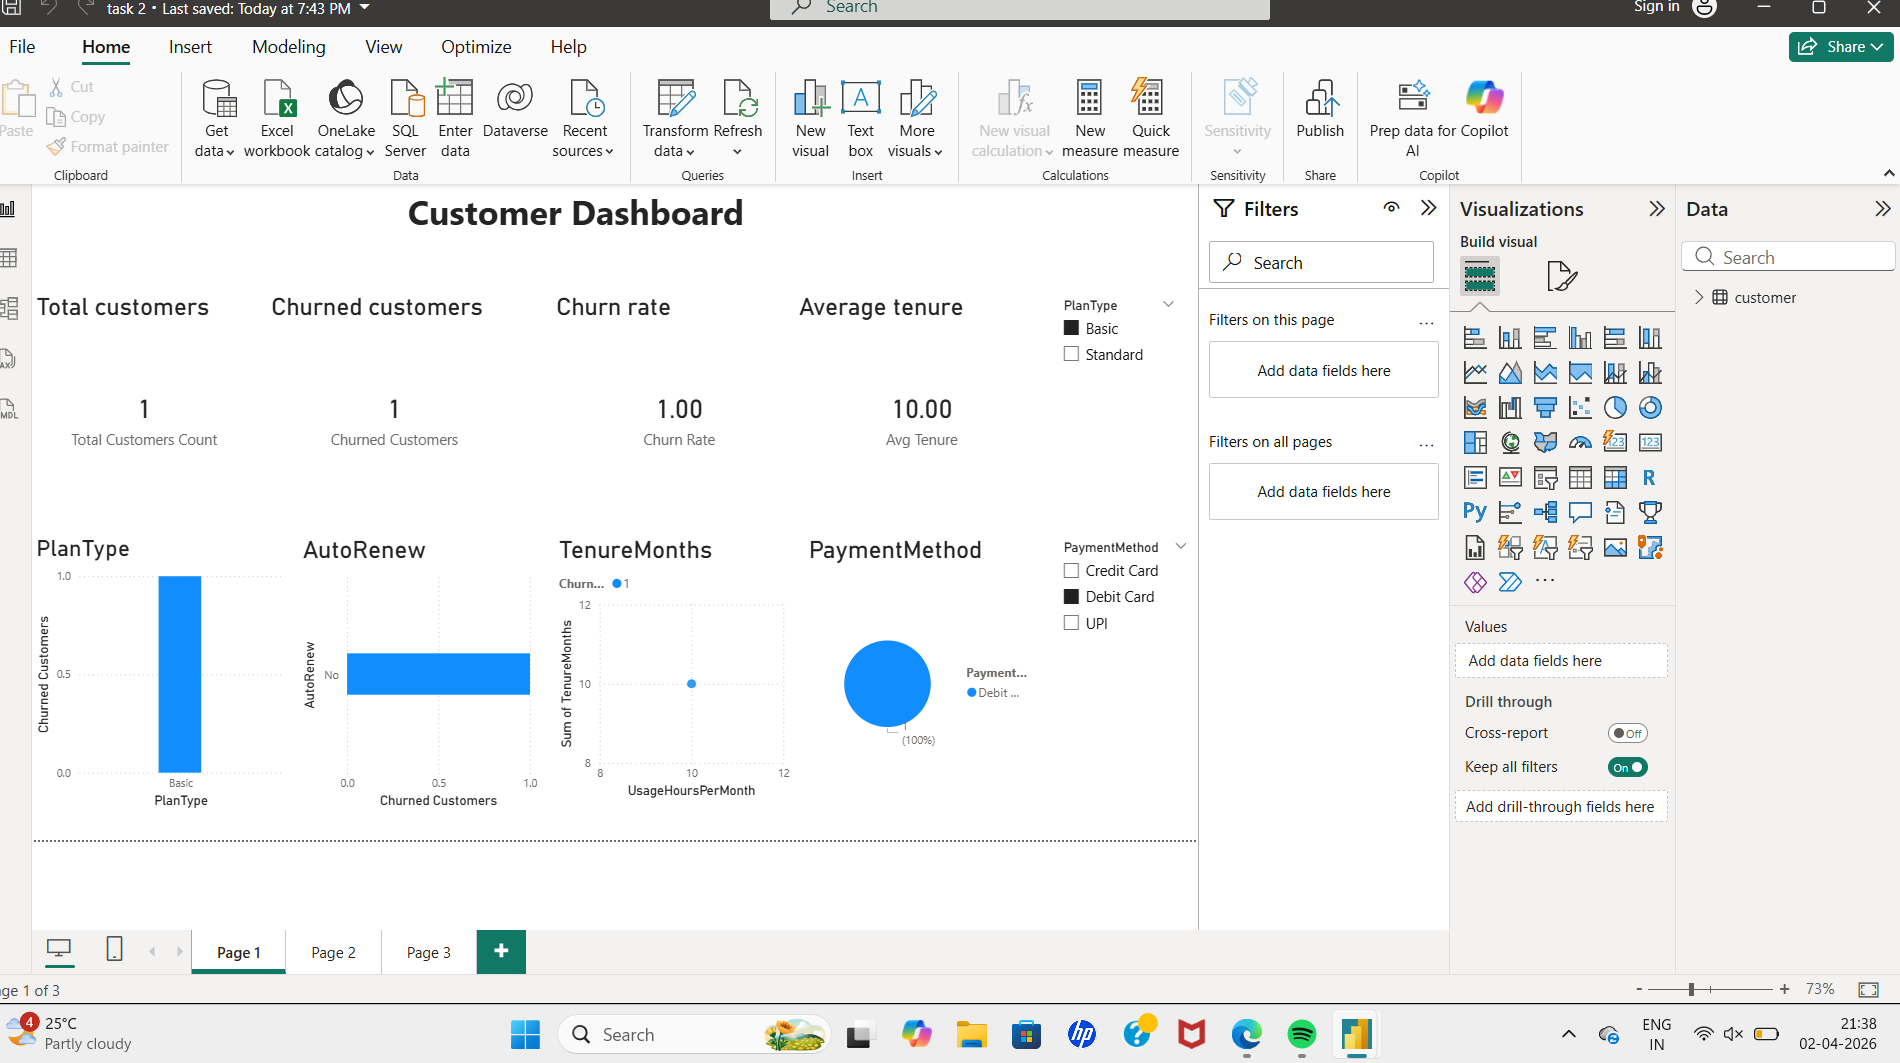

The dashboard page shown, as its layout file describes it:
{"tool":"powerbi","page":{"name":"Page 1","canvas":[1280,720],"ordinal":0},"visuals":[{"type":"card","title":"Total customers","fields":{"Values":["customer.Total Customers Count"]},"box":[0,119.4,247,240.1],"z":0},{"type":"card","title":"Churned customers","fields":{"Values":["customer.Churned Customers"]},"box":[258,119.4,279.9,240.1],"z":1000},{"type":"card","title":"Churn rate","fields":{"Values":["customer.Churn Rate"]},"box":[570.8,119.4,279.9,240.1],"z":2000},{"type":"card","title":"Average tenure","fields":{"Values":["customer.Avg Tenure"]},"box":[837.1,119.4,279.9,240.1],"z":3000},{"type":"barChart","title":"AutoRenew","fields":{"Category":["customer.AutoRenew"],"Y":["customer.Churned Customers"]},"box":[292.3,385.6,267.6,304.6],"z":4000},{"type":"scatterChart","title":"TenureMonths","fields":{"X":["customer.UsageHoursPerMonth"],"Y":["Sum(customer.TenureMonths)"],"Series":["customer.Churned"]},"box":[573.6,385.6,263.5,293.7],"z":5000},{"type":"pieChart","title":"PaymentMethod","fields":{"Category":["customer.PaymentMethod"],"Y":["customer.Churned Customers"]},"box":[848,385.6,256.6,293.7],"z":6000},{"type":"clusteredColumnChart","title":"PlanType","fields":{"Category":["customer.PlanType"],"Y":["customer.Churned Customers"]},"box":[0,385.6,279.9,304.6],"z":7000},{"type":"slicer","fields":{"Values":["customer.PlanType"]},"box":[1119.7,119.4,146.8,240.1],"z":8000},{"type":"slicer","fields":{"Values":["customer.PaymentMethod"]},"box":[1119.7,385.6,160.5,279.9],"z":9000},{"type":"textbox","box":[407.5,0,429.5,91.9],"z":10000}]}

Visuals, with their boxes on the page's 1280x720 design canvas (x1, y1, x2, y2). These are canvas units, not pixel positions in the 1900x1063 screenshot, which may show the page scaled, cropped or inside an application window:
"Total customers" card: [x1=0, y1=119, x2=247, y2=360]
"Churned customers" card: [x1=258, y1=119, x2=538, y2=360]
"Churn rate" card: [x1=571, y1=119, x2=851, y2=360]
"Average tenure" card: [x1=837, y1=119, x2=1117, y2=360]
"AutoRenew" barChart: [x1=292, y1=386, x2=560, y2=690]
"TenureMonths" scatterChart: [x1=574, y1=386, x2=837, y2=679]
"PaymentMethod" pieChart: [x1=848, y1=386, x2=1105, y2=679]
"PlanType" clusteredColumnChart: [x1=0, y1=386, x2=280, y2=690]
slicer - customer.PlanType: [x1=1120, y1=119, x2=1266, y2=360]
slicer - customer.PaymentMethod: [x1=1120, y1=386, x2=1280, y2=666]
textbox: [x1=408, y1=0, x2=837, y2=92]
